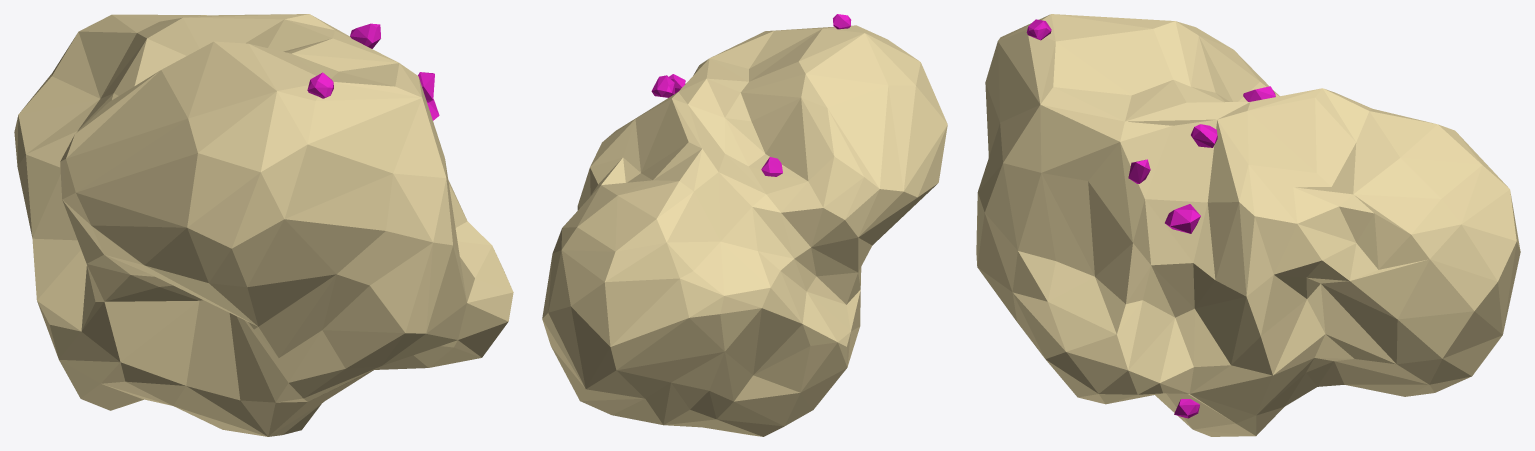
File: CrystalOre (9).fbx
3 renders of one model, left to right at view 1: azimuth 30°, elevation 25°; view 2: azimuth 150°, elevation 25°; view 3: azimuth 270°, elevation 25°, orthographic. The views are drawn at different scales.
Parts seen in each view (by area): view 1: Asteroid229; view 2: Asteroid229; view 3: Asteroid229.
Boxes of the visible parts, <box> form: Asteroid229: <box>14,14,513,436</box>; Asteroid229: <box>542,14,947,436</box>; Asteroid229: <box>976,14,1520,436</box>.
Bounding box in the file's own units: 209 × 223 × 283.
